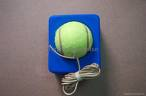tennis ball: (55, 20, 95, 60)
